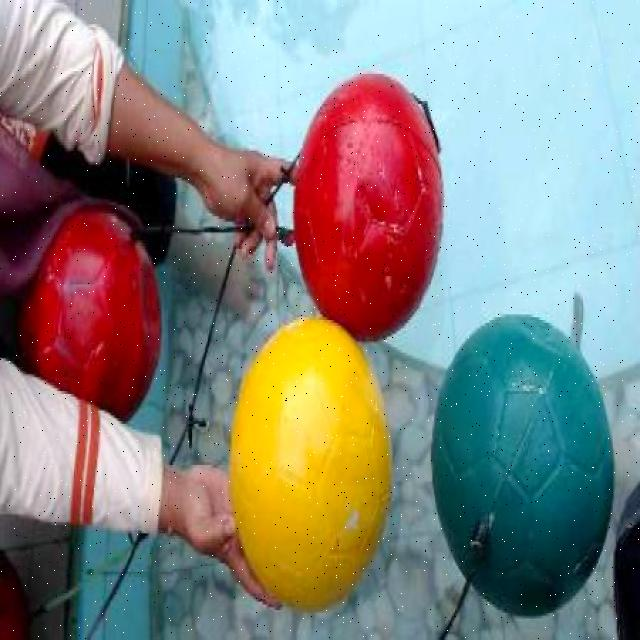buoy: (428, 310, 614, 620), (228, 313, 390, 611), (292, 70, 443, 345), (18, 202, 160, 421)
